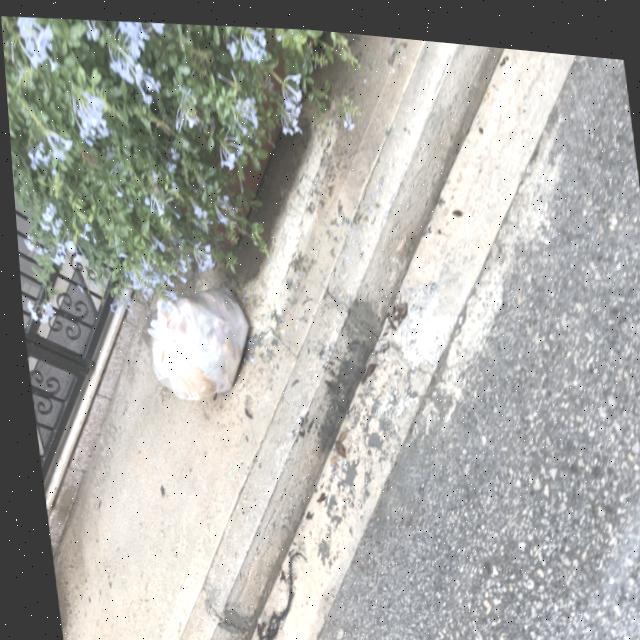Organic Waste -White Bag-: (125, 268, 266, 422)
